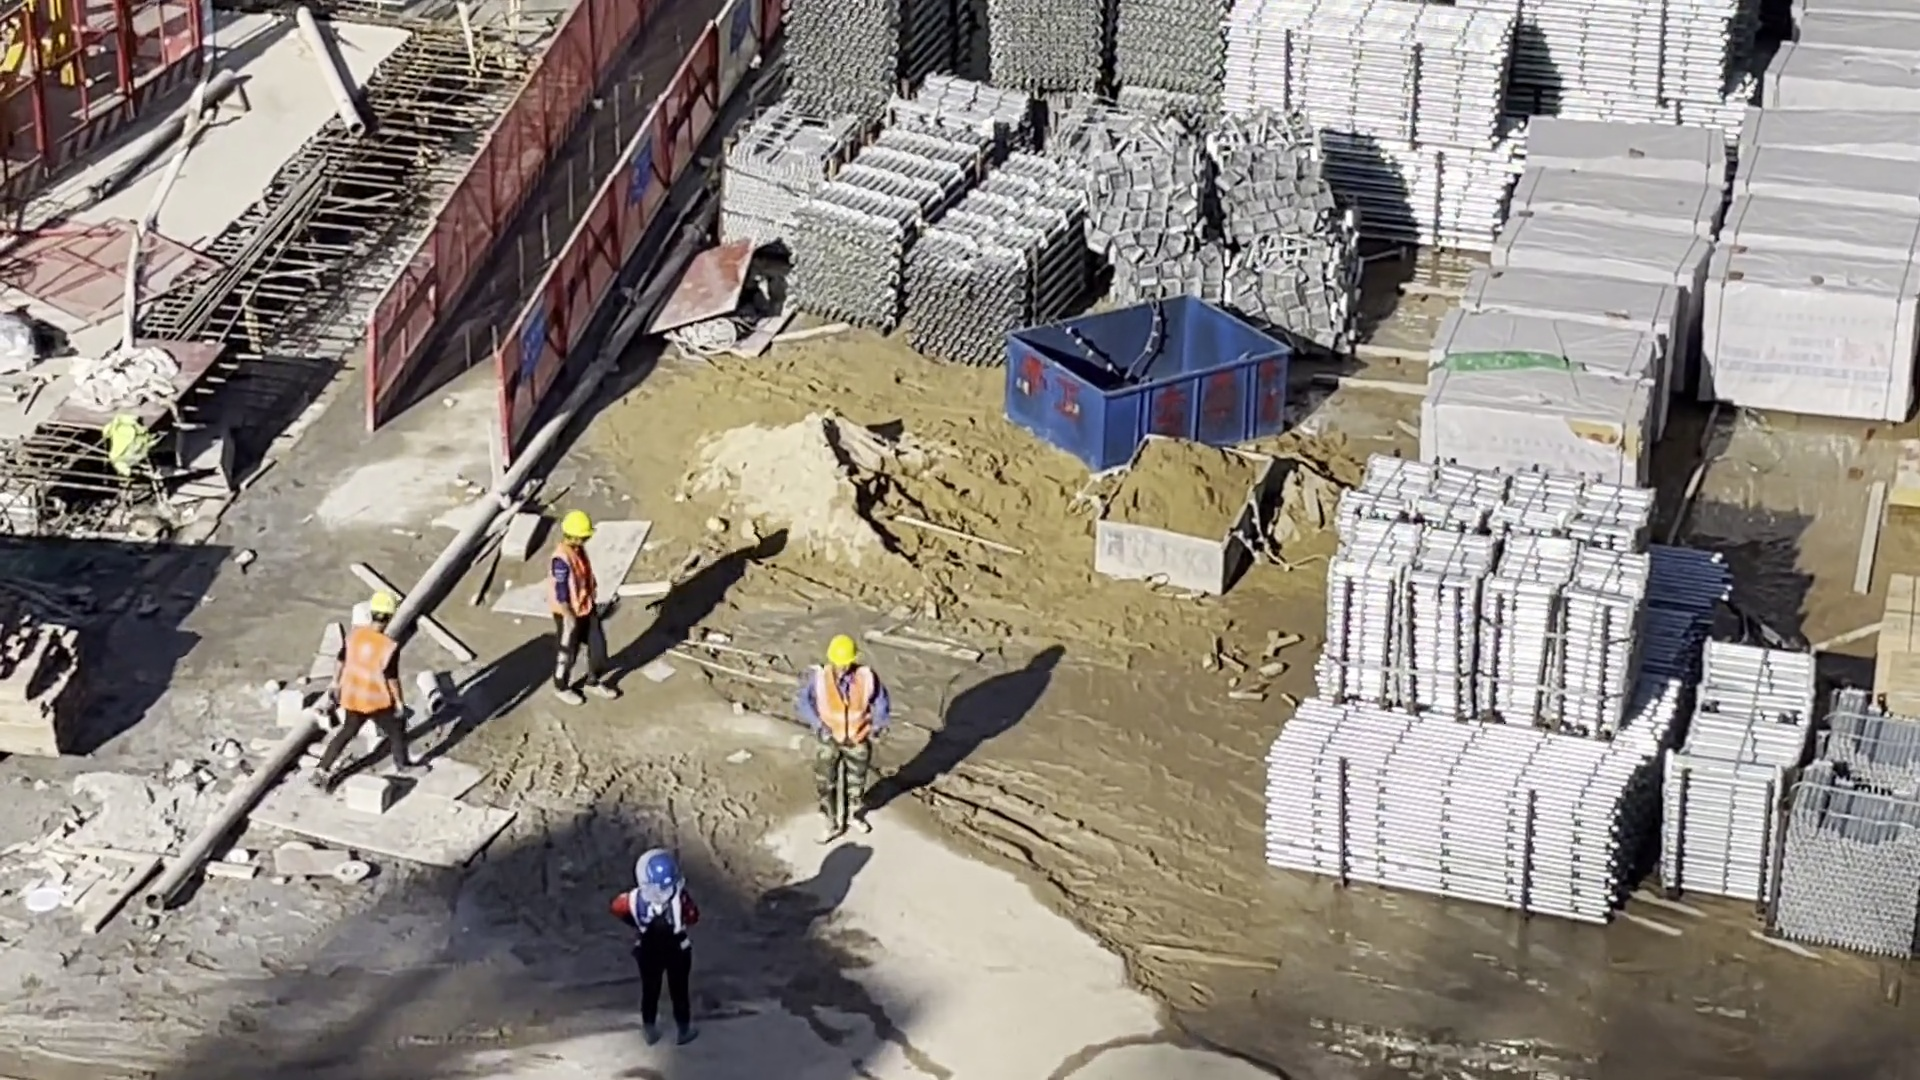board: (1883, 569, 1920, 700)
helmet: (645, 856, 678, 887), (824, 635, 859, 664), (562, 510, 596, 539), (370, 590, 401, 619)
hopper: (1005, 296, 1285, 472), (1096, 438, 1278, 593)
person: (324, 591, 421, 780), (620, 860, 702, 1046), (548, 511, 619, 707), (813, 634, 878, 839)
scaffold: (1324, 464, 1654, 738), (1266, 704, 1647, 919), (1228, 1, 1504, 251), (805, 134, 1085, 354), (1661, 639, 1801, 908), (1777, 697, 1920, 954), (1460, 1, 1732, 108), (983, 4, 1225, 116), (786, 1, 978, 120)
slogan: (520, 291, 544, 376)
vest: (340, 637, 401, 719), (815, 665, 873, 749), (555, 546, 600, 623), (625, 891, 682, 943)
